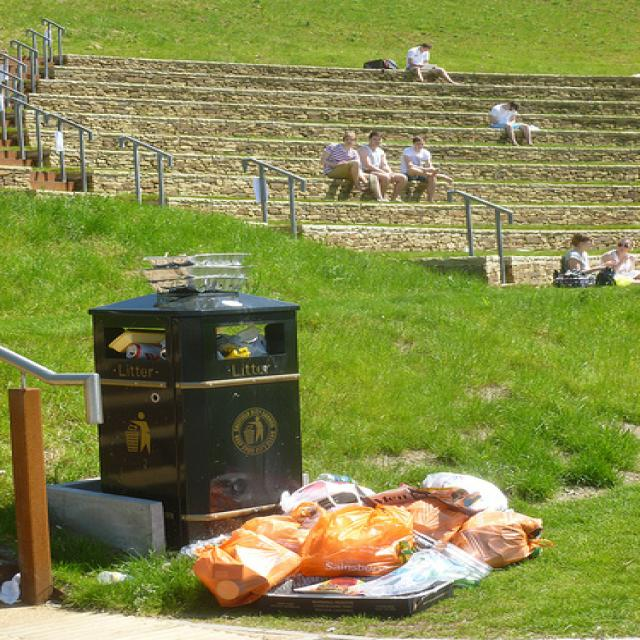garbage: (200, 470, 538, 605)
